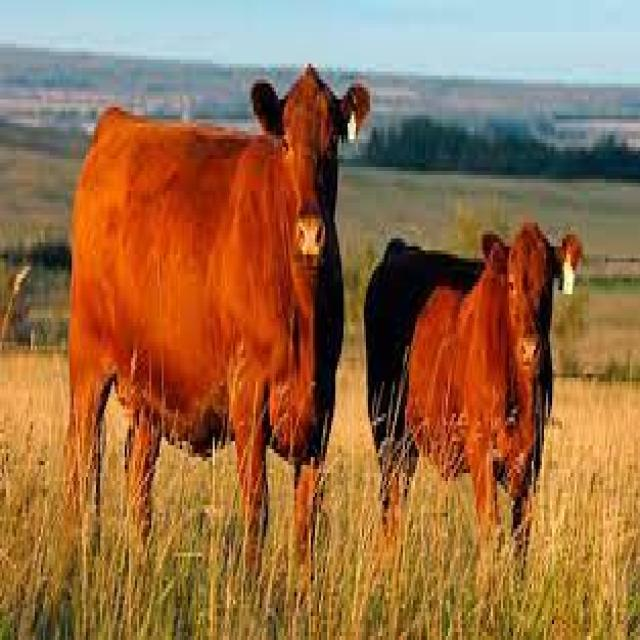cowFace: (235, 44, 370, 282), (456, 191, 585, 433)
